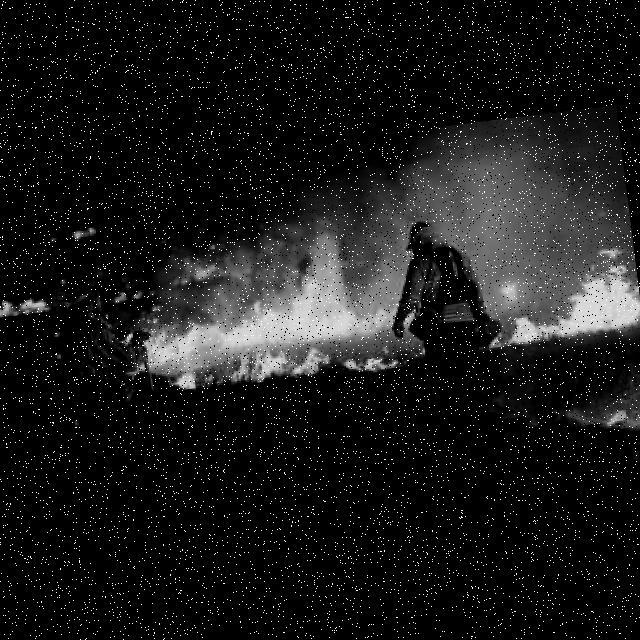Fire: (105, 209, 426, 401), (477, 252, 640, 350)
